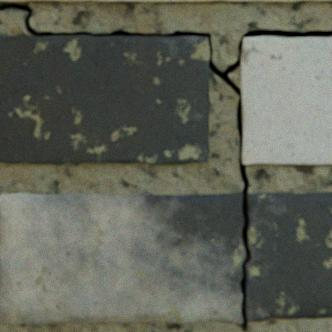brick: (0, 35, 209, 163), (240, 36, 331, 164), (0, 0, 215, 2), (221, 0, 331, 1)
broken_brick: (0, 192, 245, 322), (244, 192, 331, 321)
crack: (0, 1, 331, 331)
